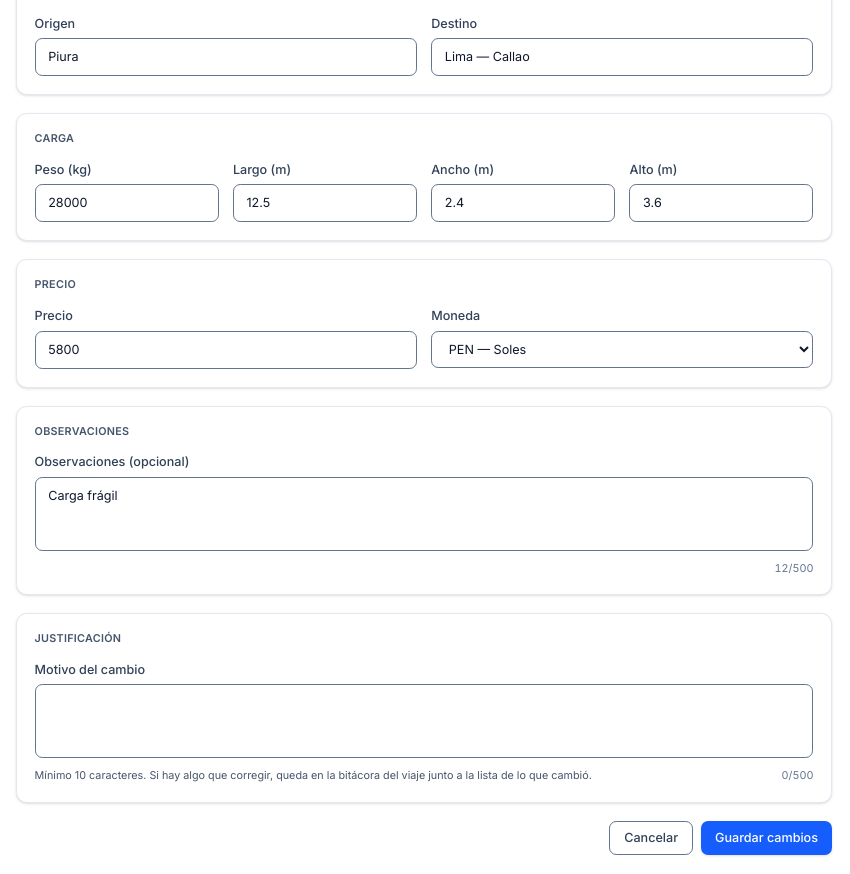
Test: ServiceEditPage, lo que manda › explica el 409 del viaje que salió del circuito mientras editaba
The image size is (850, 874).
(page scrolled)
Type "Corrijo el destino que vino mal del cliente" into the text box labelled "Motivo del cambio". click: (424, 721)
box: [35, 684, 813, 758]
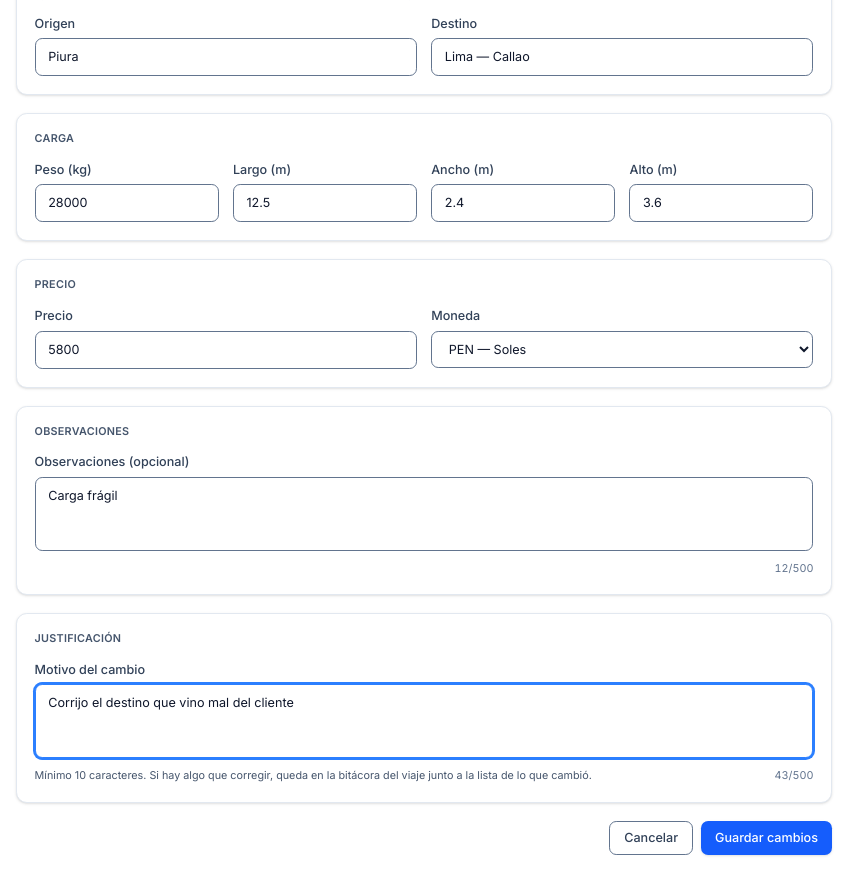
Click the button "Guardar cambios". click: (766, 838)
box: [701, 820, 832, 855]
(page scrolled)
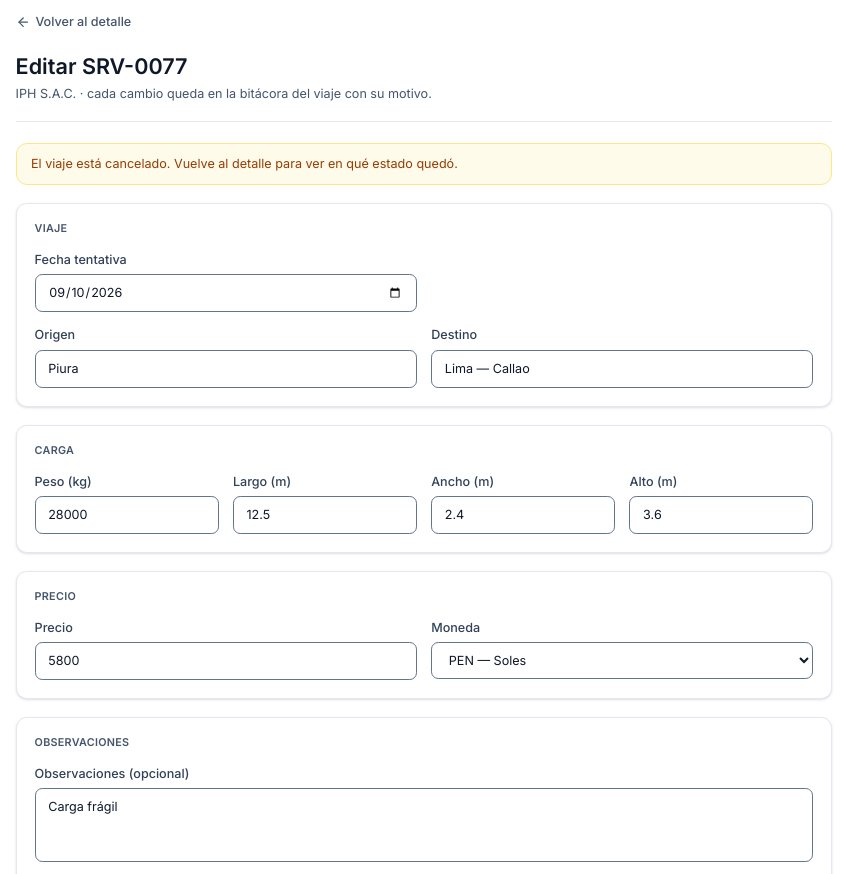
Check: the message shows "El viaje está cancelado.", box [31, 156, 458, 171]
Check: the message shows "Vuelve al detalle", box [31, 156, 458, 171]
